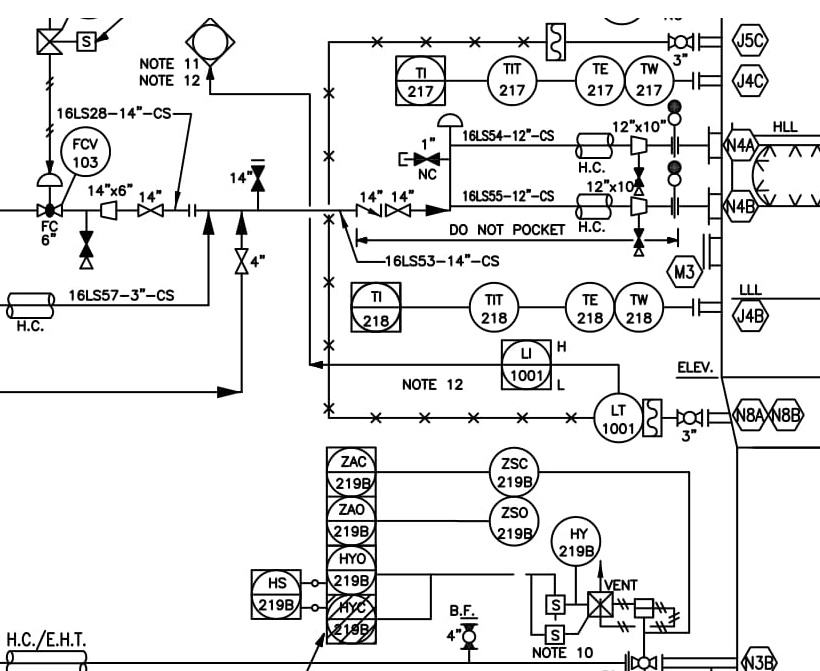Inline Instrument: (56, 123, 112, 179), (484, 51, 540, 107), (570, 51, 626, 107), (562, 278, 618, 334), (547, 511, 603, 567), (485, 441, 541, 497), (587, 387, 643, 443)
Panel Instrument: (393, 51, 448, 109), (349, 279, 404, 337), (324, 440, 379, 498), (498, 333, 553, 391), (248, 565, 303, 623), (325, 543, 378, 596)
